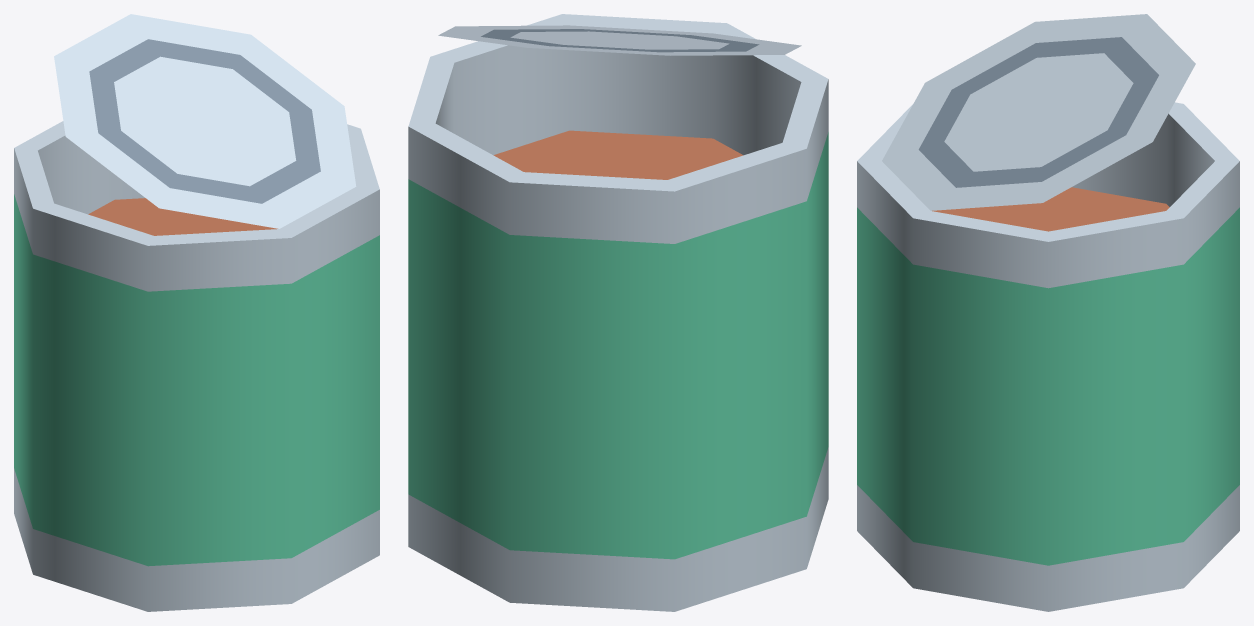
Rendered from canOpen.dae.
The picture shows the model from 3 angles, left to right: view 1: azimuth 30°, elevation 25°; view 2: azimuth 150°, elevation 25°; view 3: azimuth 270°, elevation 25°; orthographic projection. The views are drawn at different scales.
Visible parts, largest first — view 1: canOpen; view 2: canOpen; view 3: canOpen.
Part boxes in pixels (x1,y1,x2,y2): canOpen: (14, 14, 379, 611); canOpen: (408, 14, 828, 611); canOpen: (857, 14, 1239, 611).
Bounding box in the file's own units: 0.3 × 0.4071 × 0.3.
